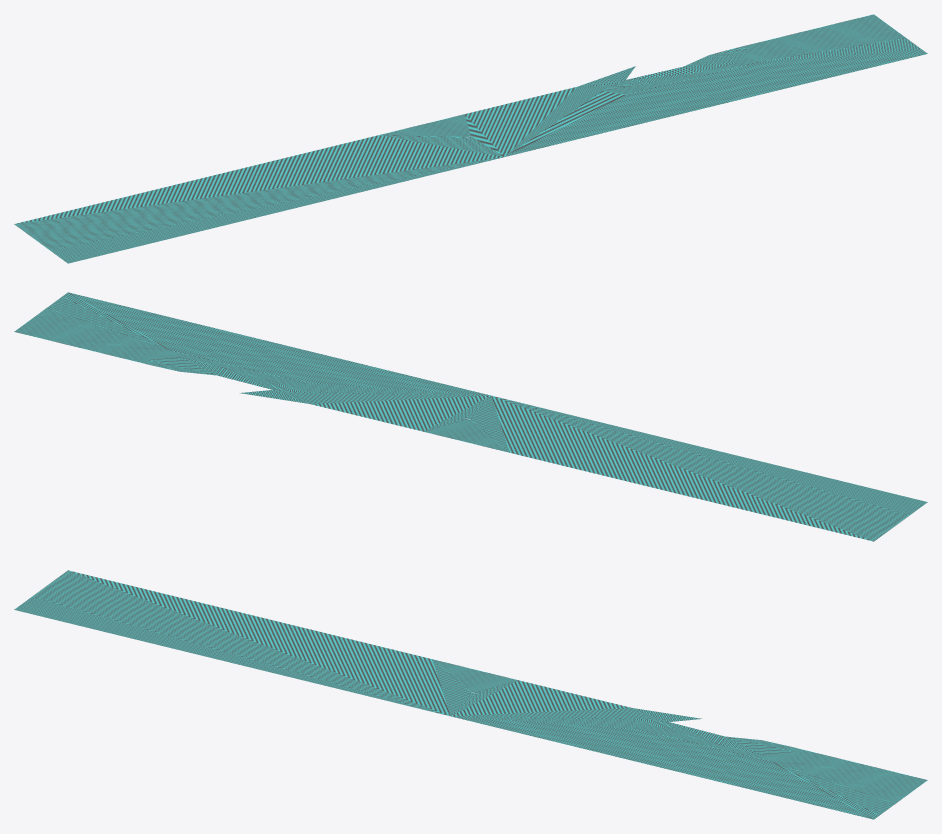
The picture shows the model from 3 angles, top to bottom: view 1: azimuth 30°, elevation 25°; view 2: azimuth 150°, elevation 25°; view 3: azimuth 330°, elevation 25°; orthographic projection.
Visible parts, largest first — view 1: SM_OceanPlane_LOD0; view 2: SM_OceanPlane_LOD0; view 3: SM_OceanPlane_LOD0.
Part boxes in pixels (box(x1,y1,x2,y2)): SM_OceanPlane_LOD0: box(14, 14, 927, 263); SM_OceanPlane_LOD0: box(14, 292, 927, 541); SM_OceanPlane_LOD0: box(14, 570, 927, 819).
Bounding box in the file's own units: 1997 × 0 × 243.
Materials: 1 (1 with a texture image).
